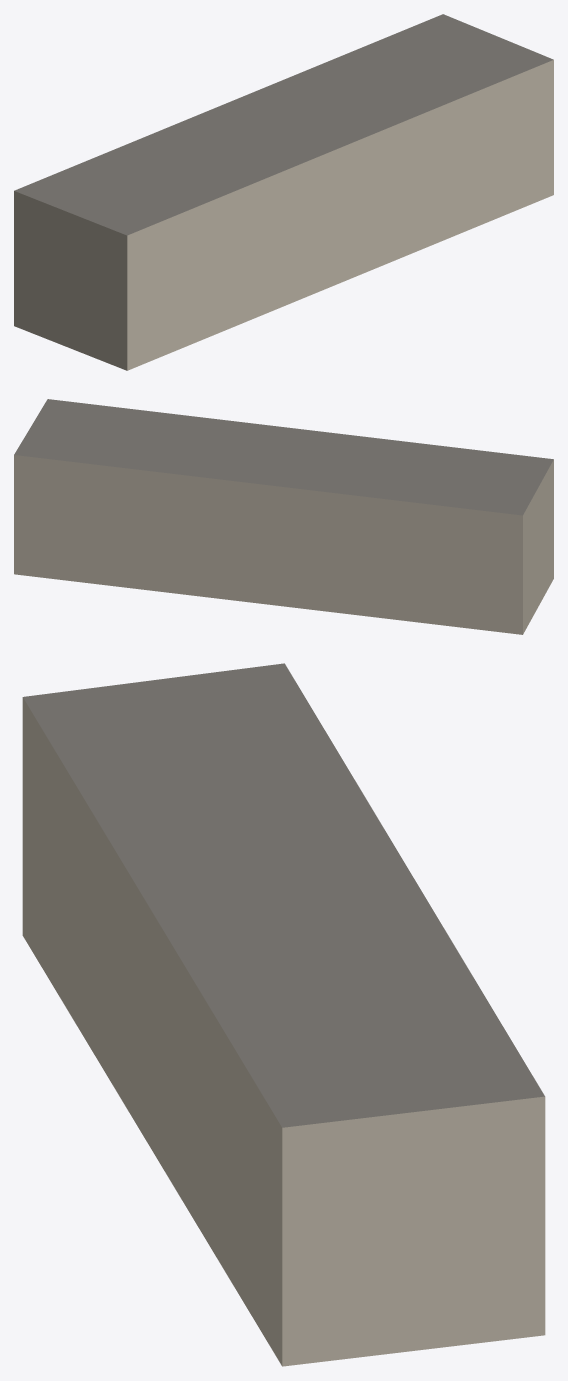
3 renders of one model, top to bottom at view 1: azimuth 30°, elevation 25°; view 2: azimuth 150°, elevation 25°; view 3: azimuth 270°, elevation 25°, orthographic. The views are drawn at different scales.
Visible parts, largest first — view 1: HP-w373833564; view 2: HP-w373833564; view 3: HP-w373833564.
Part boxes in pixels (left/top/right/bottom): HP-w373833564: left=14, top=14, right=553, bottom=370; HP-w373833564: left=14, top=399, right=553, bottom=634; HP-w373833564: left=22, top=663, right=545, bottom=1366.
Size of the model in its own units: 50.05 by 12 by 23.79.
